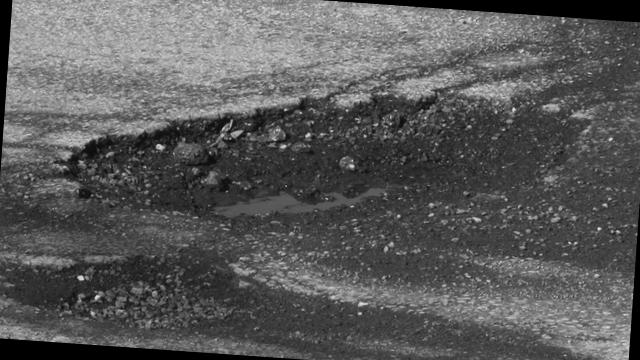Pothole: (55, 74, 584, 240)
